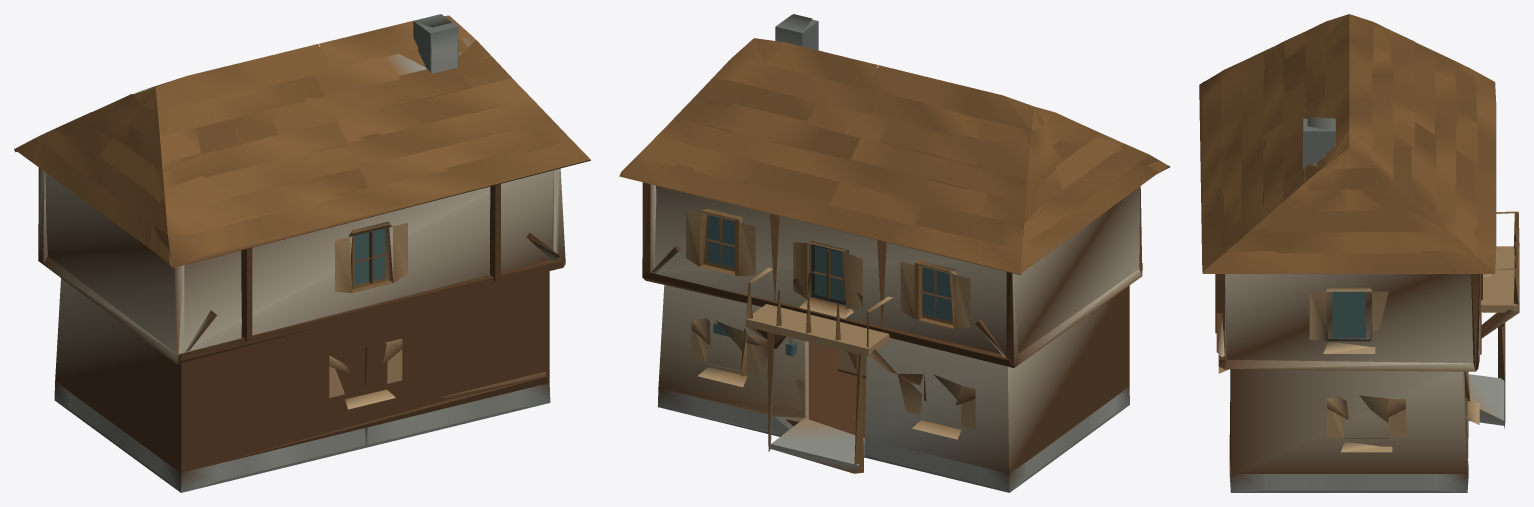
File: LongCabinL2.glb
The picture shows the model from 3 angles, left to right: view 1: azimuth 30°, elevation 25°; view 2: azimuth 150°, elevation 25°; view 3: azimuth 270°, elevation 25°; orthographic projection. The views are drawn at different scales.
Visible parts, largest first — view 1: LongCabinL2_Body_P0_LOD1, HouseGlass_P0_LOD1; view 2: LongCabinL2_Body_P0_LOD1, HouseGlass_P0_LOD1; view 3: LongCabinL2_Body_P0_LOD1, HouseGlass_P0_LOD1.
Part boxes in pixels (x1,y1,x2,y2): LongCabinL2_Body_P0_LOD1: [14, 14, 590, 492]; HouseGlass_P0_LOD1: [354, 228, 385, 285]; LongCabinL2_Body_P0_LOD1: [619, 14, 1170, 492]; HouseGlass_P0_LOD1: [707, 215, 951, 356]; LongCabinL2_Body_P0_LOD1: [1199, 14, 1519, 492]; HouseGlass_P0_LOD1: [1332, 291, 1382, 397].
Bounding box in the file's own units: 8.43 × 6.95 × 5.93.
